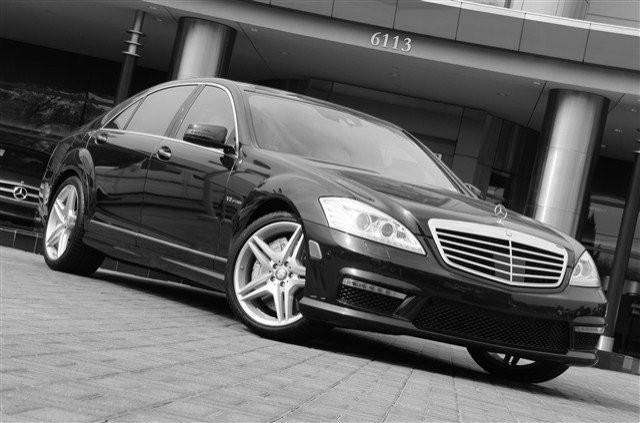car: (35, 75, 614, 392)
